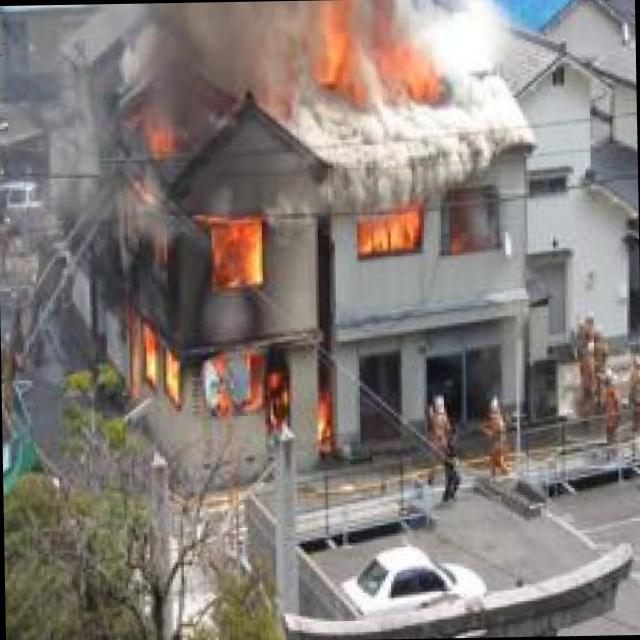Fire: (111, 113, 339, 466), (309, 1, 452, 112), (349, 208, 430, 263)
